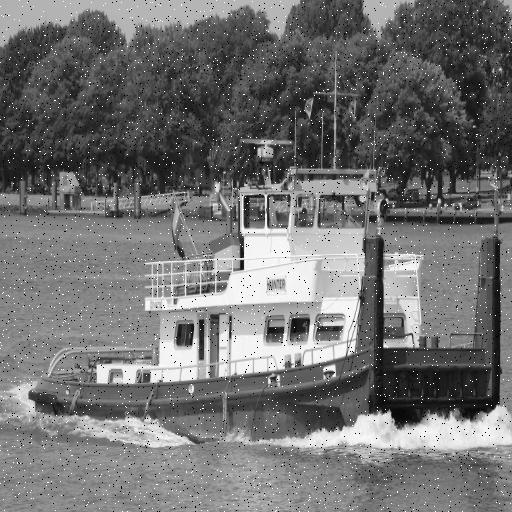tugboat: (25, 48, 506, 453)
